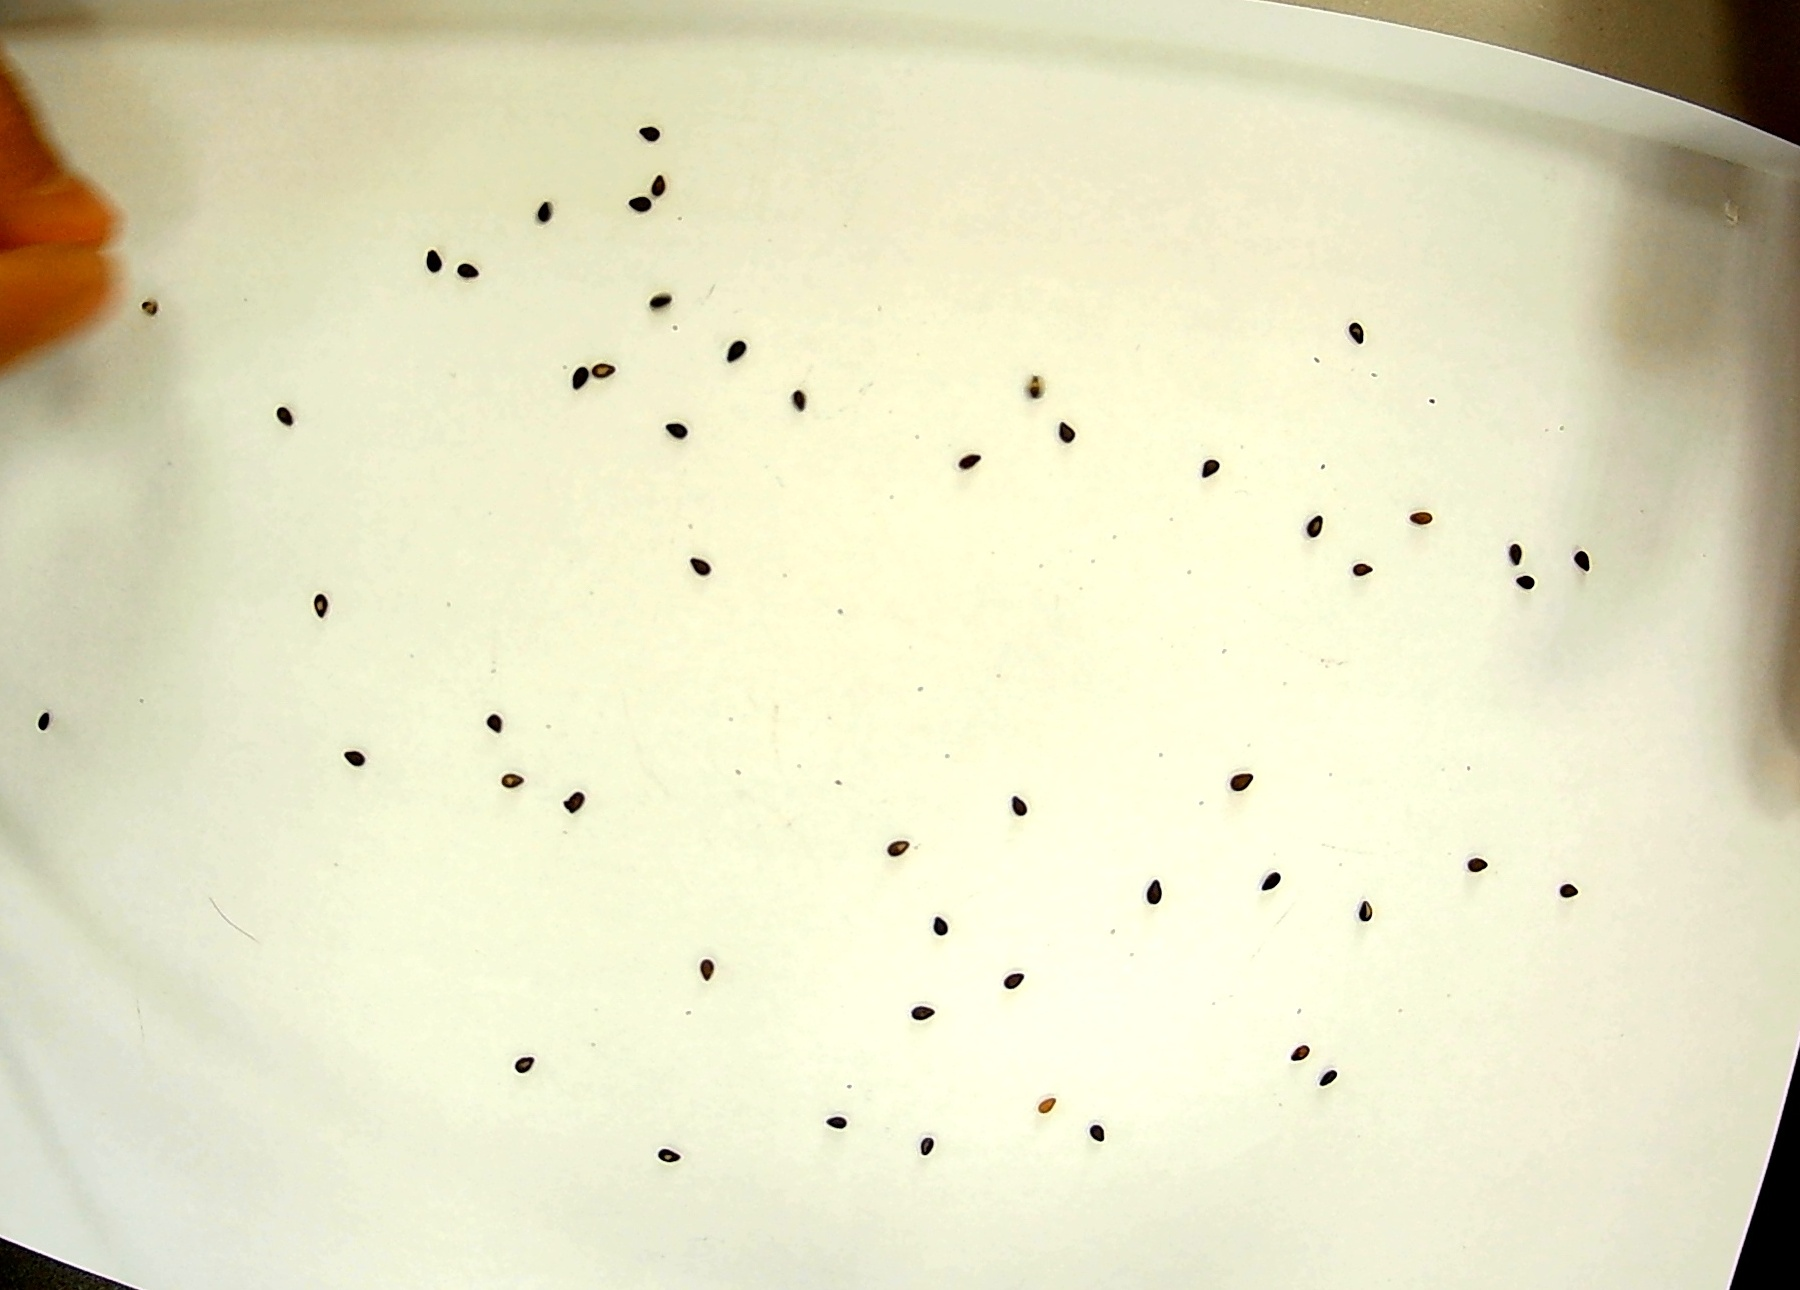sesami: (620, 187, 666, 223), (587, 345, 633, 381), (260, 401, 306, 437), (329, 741, 375, 778), (1460, 840, 1506, 877), (1049, 419, 1095, 455), (1012, 360, 1058, 396), (767, 377, 813, 413), (929, 900, 975, 937), (1132, 868, 1178, 905), (625, 120, 670, 156), (642, 163, 687, 200), (441, 251, 486, 288), (558, 364, 603, 401), (639, 278, 684, 314), (124, 276, 169, 313), (292, 586, 336, 623), (462, 699, 507, 736), (488, 765, 533, 801), (511, 1047, 555, 1083), (816, 1100, 861, 1136), (915, 1127, 960, 1163), (1077, 1118, 1122, 1155), (1303, 1057, 1348, 1093), (1552, 877, 1596, 913), (1564, 535, 1609, 571), (1489, 528, 1533, 564), (1506, 565, 1550, 602), (1404, 503, 1448, 539), (1330, 316, 1374, 352), (1299, 504, 1344, 540), (1337, 547, 1381, 584), (1200, 451, 1245, 487), (949, 447, 993, 483), (714, 336, 759, 373), (668, 547, 713, 584), (682, 956, 727, 993), (989, 956, 1034, 993), (868, 818, 913, 854), (1224, 761, 1268, 797), (548, 787, 594, 822), (1026, 1088, 1072, 1122), (1342, 900, 1388, 935), (519, 186, 564, 221), (410, 242, 455, 276), (28, 697, 73, 732), (647, 1127, 692, 1162), (1291, 1035, 1335, 1069), (645, 410, 689, 445), (904, 995, 949, 1030), (999, 785, 1044, 820), (1238, 859, 1282, 894)
